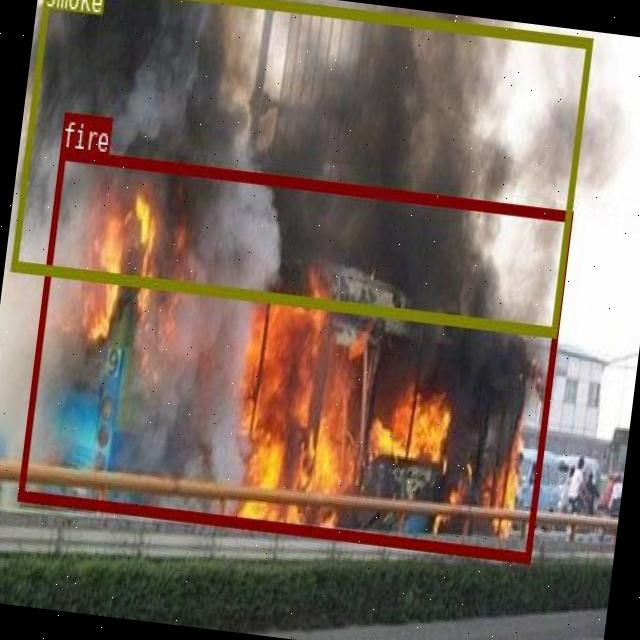fire: (17, 147, 572, 561)
smoke: (10, 0, 592, 335)
